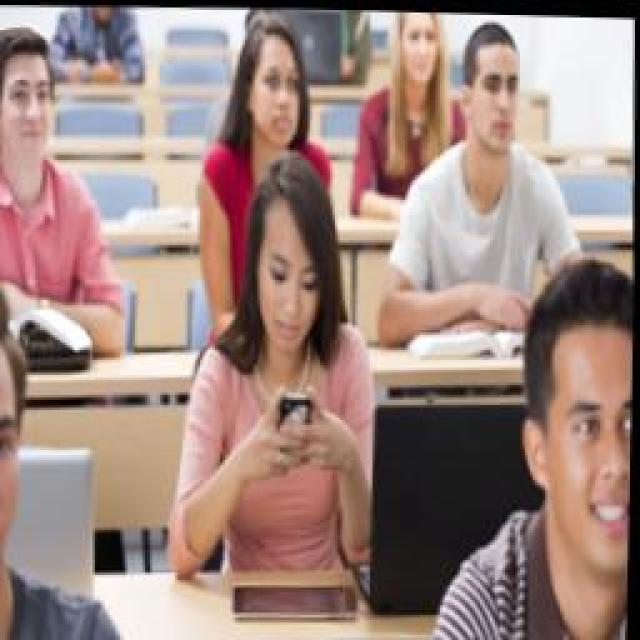phone: (165, 148, 387, 582)
study: (422, 247, 635, 640), (378, 17, 598, 355), (0, 272, 142, 639), (192, 7, 338, 345), (0, 20, 135, 360), (350, 8, 468, 210)
